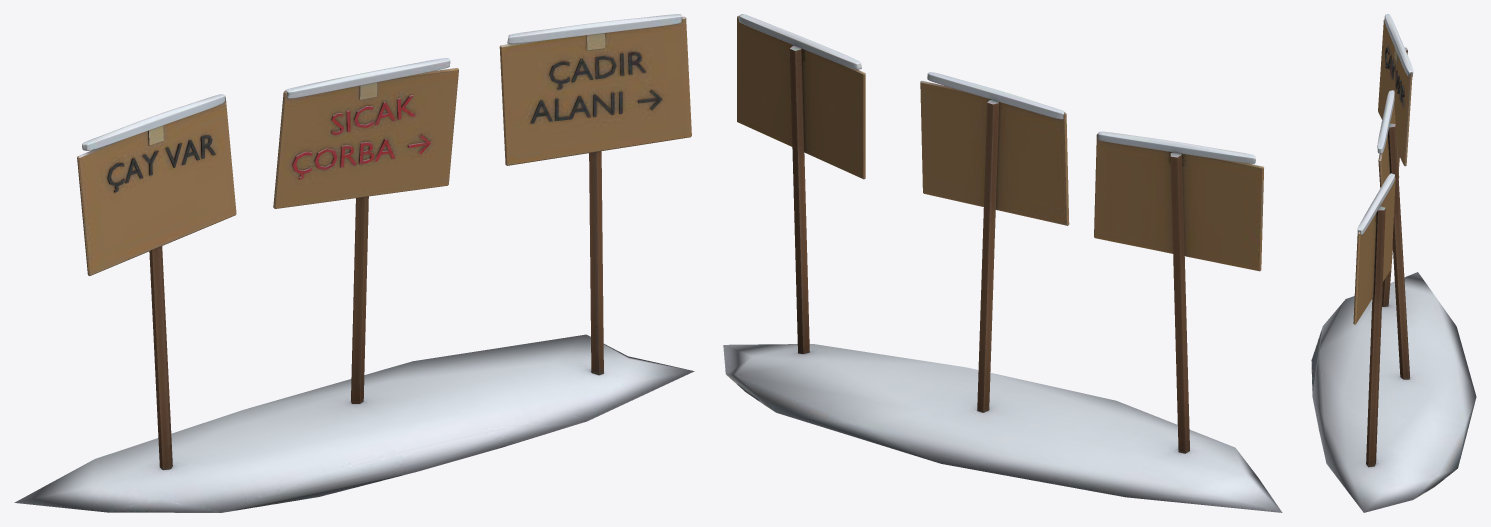
Rendered from sign_cardboard.glb.
The picture shows the model from 3 angles, left to right: view 1: azimuth 30°, elevation 25°; view 2: azimuth 150°, elevation 25°; view 3: azimuth 270°, elevation 25°; orthographic projection. The views are drawn at different scales.
Parts seen in each view (by area): view 1: sign_cardboard; view 2: sign_cardboard; view 3: sign_cardboard.
Part boxes in pixels (left/top/right/bottom): sign_cardboard: left=14, top=14, right=694, bottom=512; sign_cardboard: left=723, top=14, right=1282, bottom=512; sign_cardboard: left=1311, top=14, right=1476, bottom=512.
Size of the model in its own units: 2.38 by 1.29 by 0.6898.
1 material, 1 textured.
